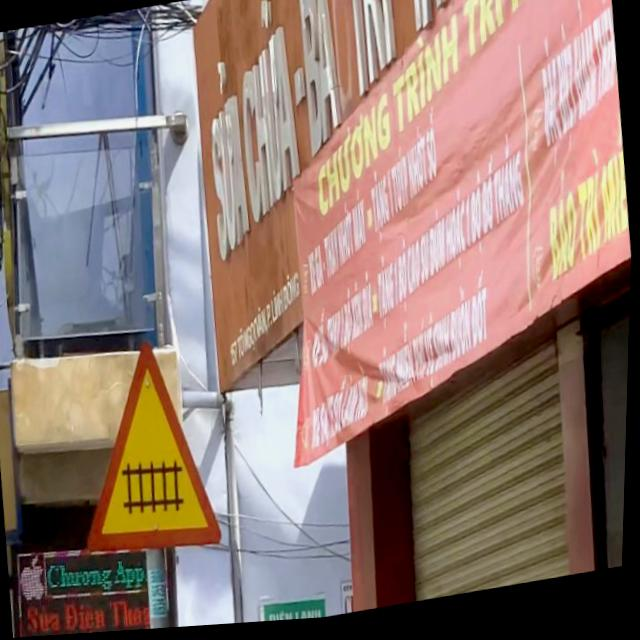Giao nhau voi duong sat co rao chan: (66, 329, 233, 573)
